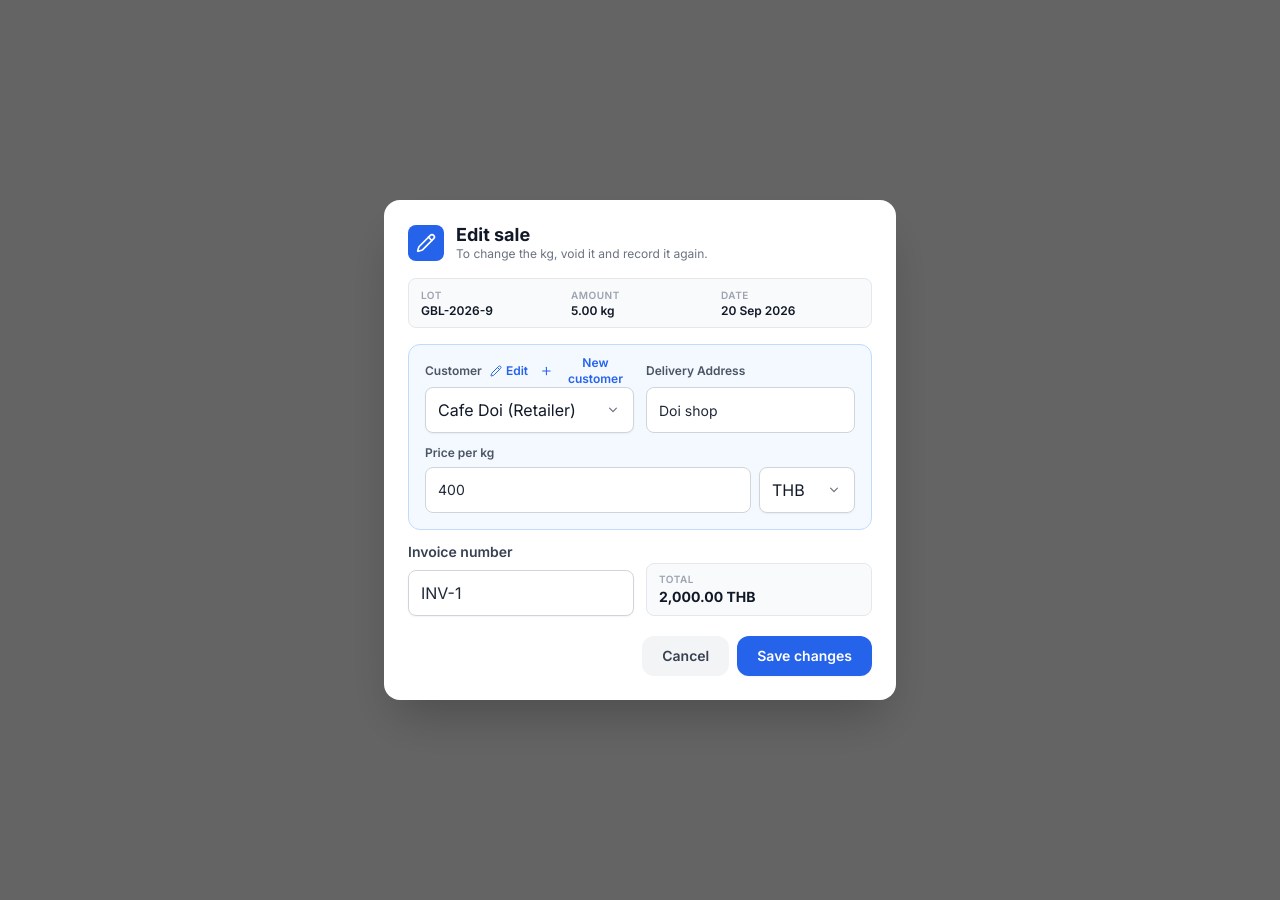
Test: EditWithdrawalModal › refuses a price that is not above 0 before sending
This screenshot has width=1280, height=900.
Replace the text in the number field labelled "Price per kg" with "0" at [588, 490], box x1=425 y1=467 x2=751 y2=513
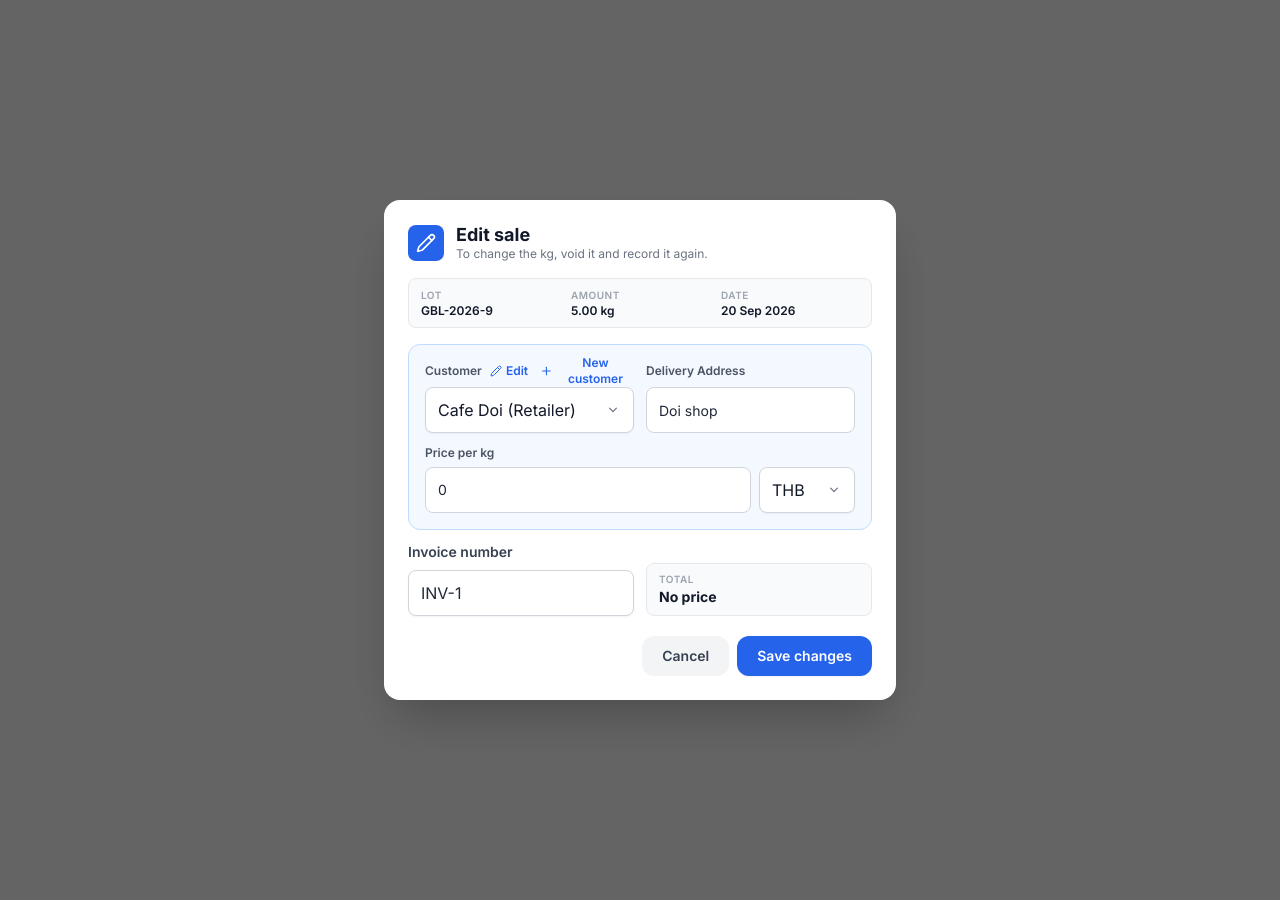
Click the button "Save changes" at [805, 656], box x1=737 y1=636 x2=872 y2=676
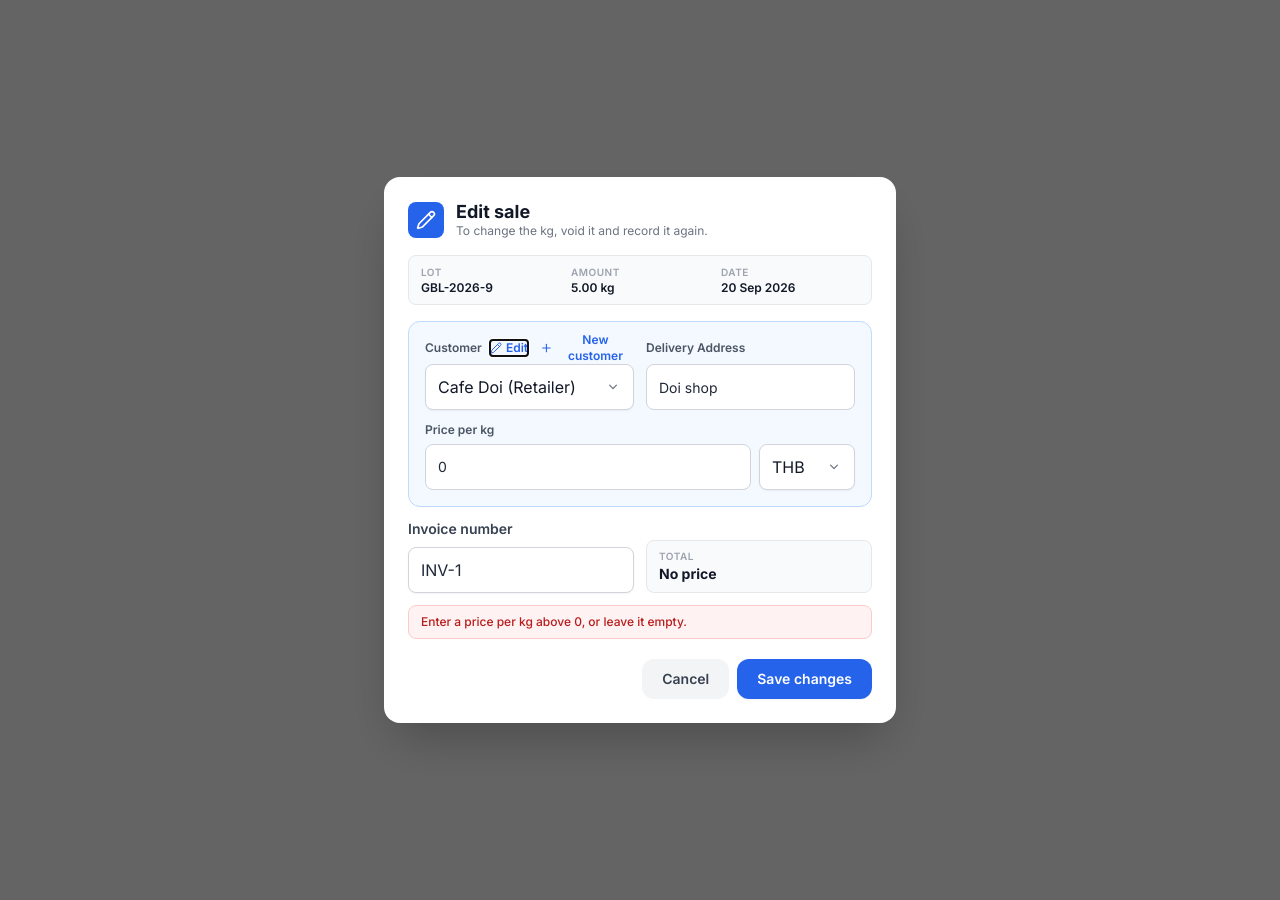
Result: the message reads "Enter a price per kg above 0, or leave it empty." at x1=421 y1=614 x2=687 y2=629
